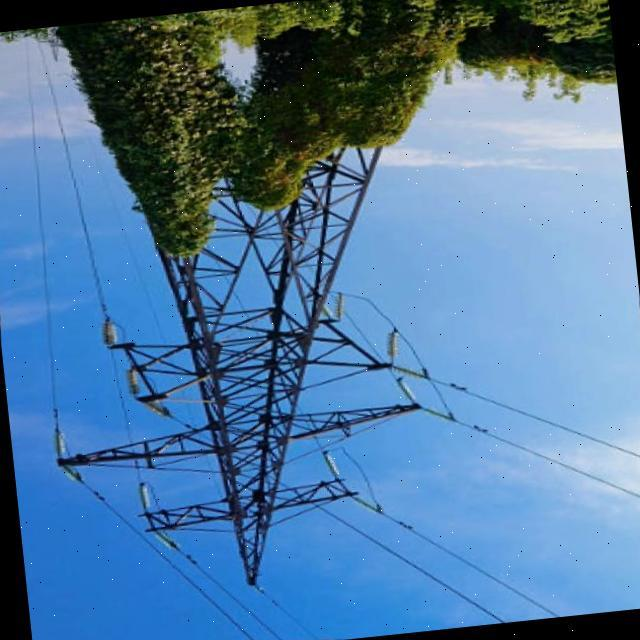critical vegetation: (54, 22, 443, 600), (61, 18, 457, 332)
